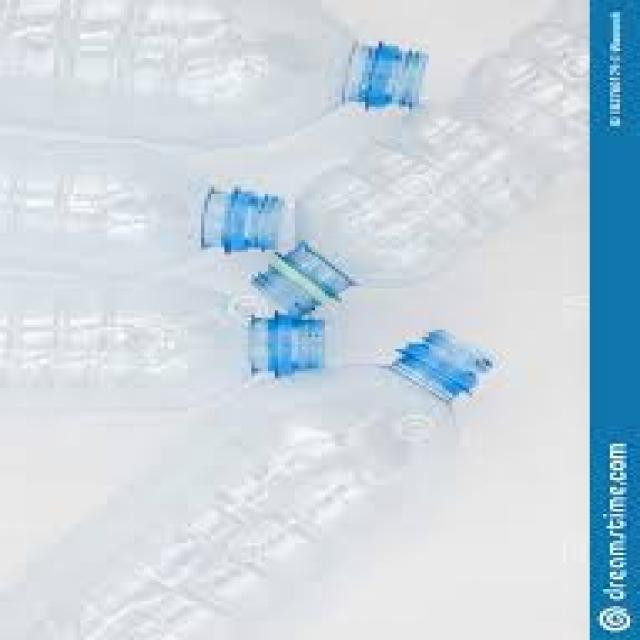Plastic: (0, 328, 495, 630), (235, 0, 589, 317), (246, 0, 578, 318), (0, 0, 424, 154), (0, 272, 346, 414), (0, 158, 277, 264)
